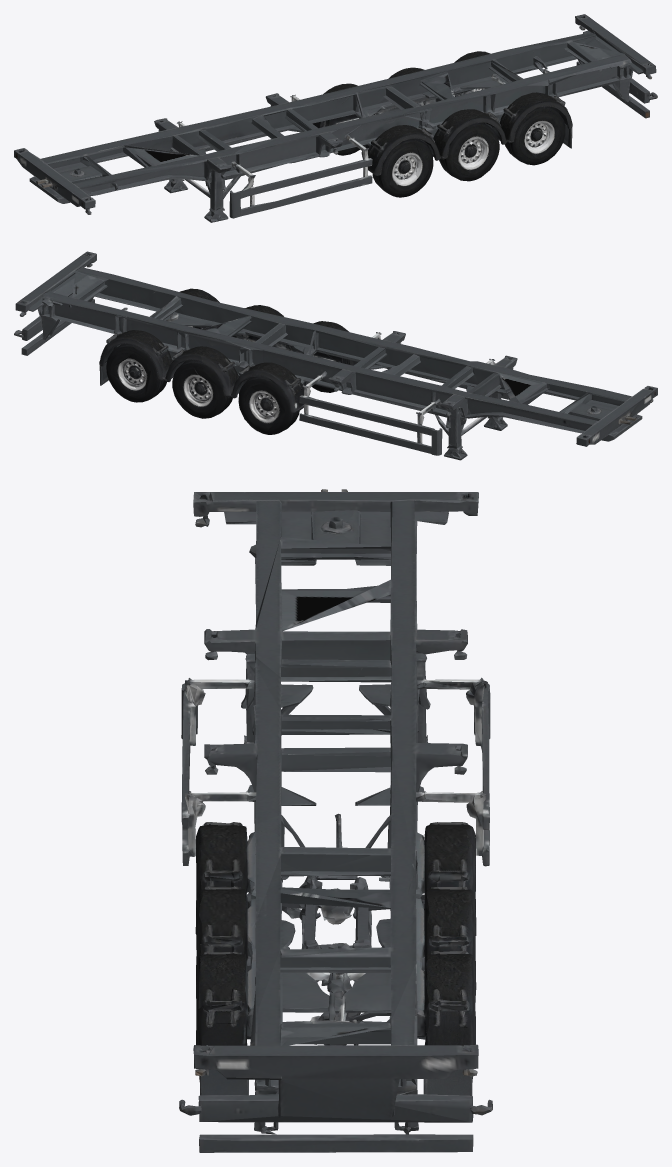
File: cargo-container-chassis-v2-web.glb
3 views of the same model, one above another, from view 1: azimuth 30°, elevation 25°; view 2: azimuth 150°, elevation 25°; view 3: azimuth 270°, elevation 25° (orthographic). The views are drawn at different scales.
Parts seen in each view (by area): view 1: output_unwrapped; view 2: output_unwrapped; view 3: output_unwrapped.
Part boxes in pixels (<box>): output_unwrapped: <box>14,14,657,222</box>; output_unwrapped: <box>14,251,657,460</box>; output_unwrapped: <box>179,489,492,1152</box>.
Bounding box in the file's own units: 1.9 × 0.2403 × 0.4441.
Materials: 1 (1 with a texture image).
